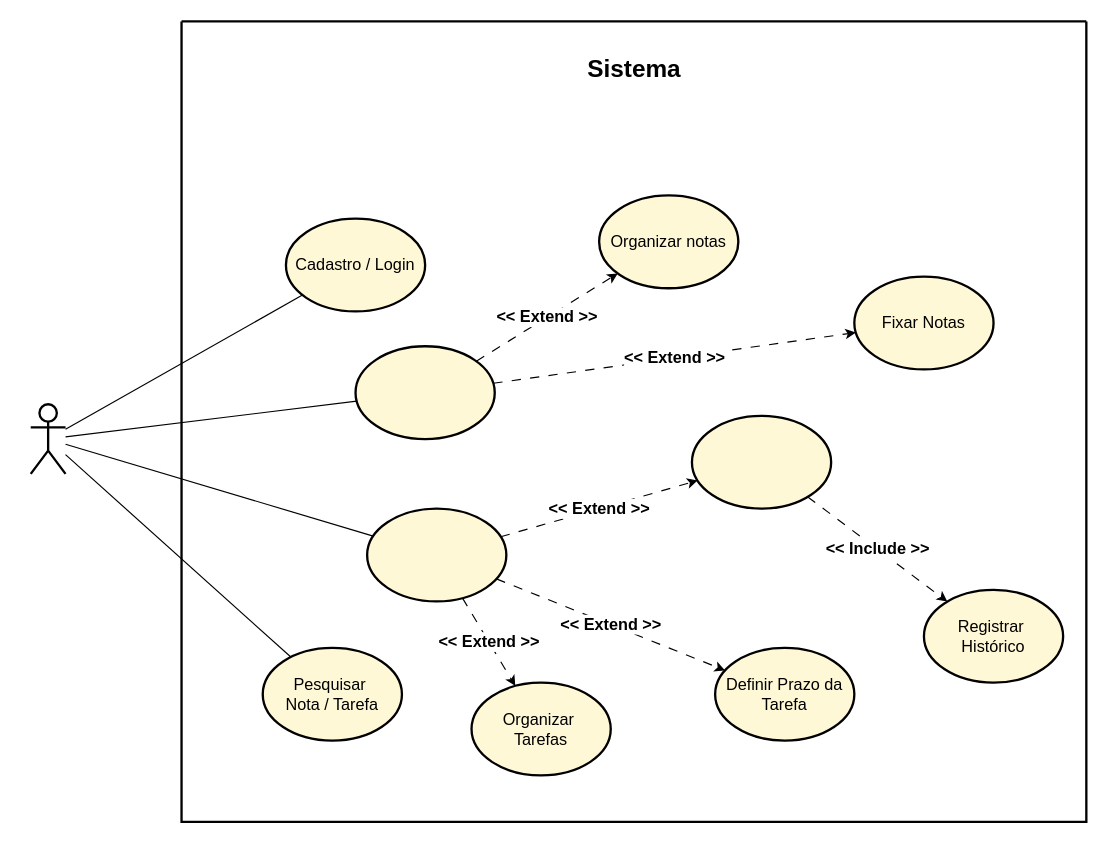
Image size: 1107x842. Some labels were removed from this diagram. The shapes that lost their labels are listed below. From the top down, each one's centre as x and y in pixels, then its label:
point (424, 392): Gerenciar Nota
point (47, 438): Usuário
point (761, 461): Concluir Tarefa
point (436, 554): Gerenciar Tarefa
